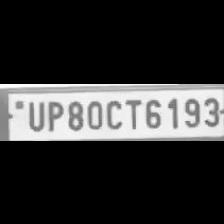0: (85, 96, 103, 128)
1: (162, 96, 180, 128)
3: (201, 94, 221, 126)
6: (142, 96, 162, 128)
8: (64, 97, 84, 130)
9: (181, 95, 201, 127)
C: (103, 96, 123, 130)
P: (44, 97, 64, 130)
T: (122, 96, 142, 128)
U: (23, 97, 43, 129)
